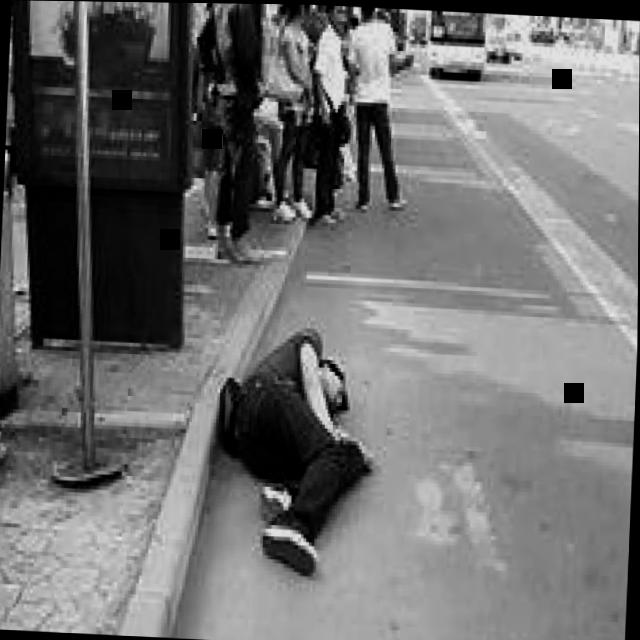Fall-Detected: (197, 299, 384, 570)
